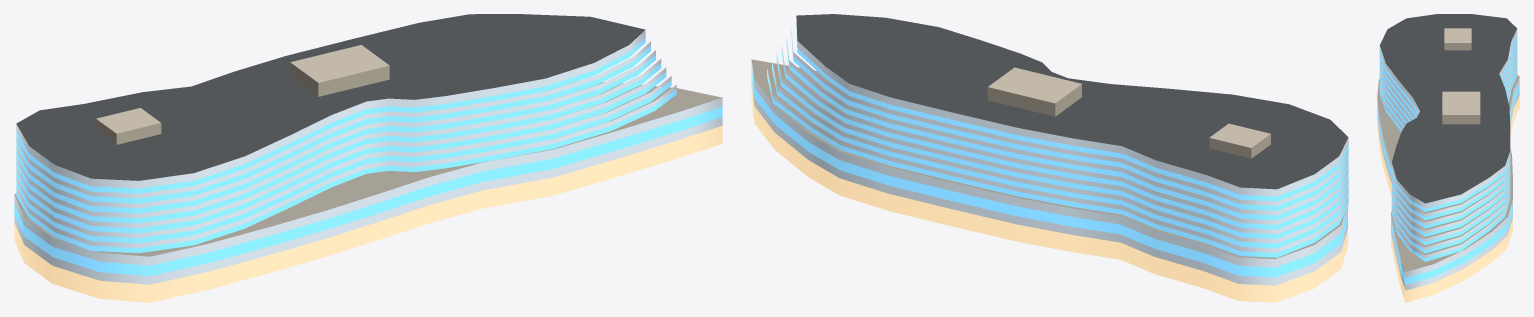
File: giga_mall_far.glb
3 renders of one model, left to right at view 1: azimuth 30°, elevation 25°; view 2: azimuth 150°, elevation 25°; view 3: azimuth 270°, elevation 25°, orthographic. The views are drawn at different scales.
Visible parts, largest first — view 1: m_alu_band, m_roof_deck, m_glass_blue, m_shopfront_dark, m_terrace_paving, m_plant_box; view 2: m_roof_deck, m_alu_band, m_glass_blue, m_shopfront_dark, m_plant_box, m_terrace_paving; view 3: m_roof_deck, m_alu_band, m_glass_blue, m_terrace_paving, m_shopfront_dark, m_plant_box.
Part boxes in pixels (x1,y1,x2,y2): m_alu_band: (14,30,722,284); m_roof_deck: (16,14,645,180); m_glass_blue: (14,38,722,275); m_shopfront_dark: (14,125,722,302); m_terrace_paving: (14,81,721,256); m_plant_box: (96,45,389,144); m_roof_deck: (796,14,1348,189); m_alu_band: (751,19,1348,285); m_glass_blue: (751,26,1348,277); m_shopfront_dark: (751,86,1347,302); m_plant_box: (987,67,1270,158); m_terrace_paving: (751,59,1344,259); m_roof_deck: (1380,14,1516,203); m_alu_band: (1377,29,1519,290); m_glass_blue: (1377,34,1519,284); m_terrace_paving: (1377,75,1519,271); m_shopfront_dark: (1377,96,1519,302); m_plant_box: (1442,28,1480,124).
Bounding box in the file's own units: 290 × 56.8 × 83.
